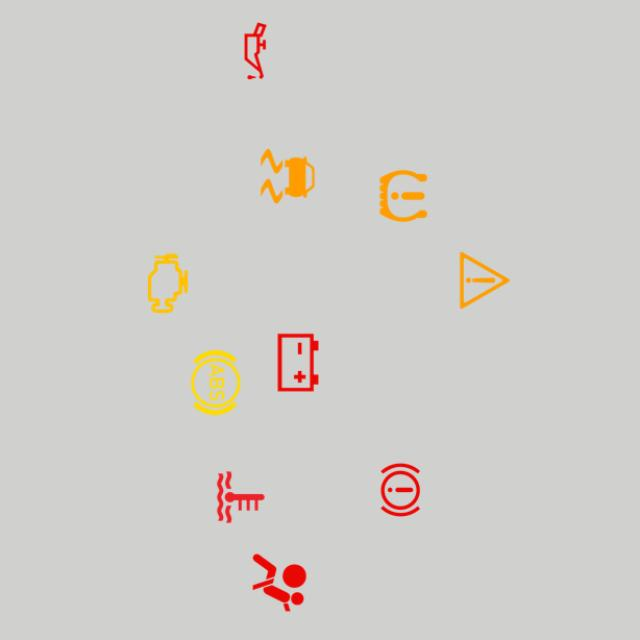Anti Lock Braking System: (180, 347, 252, 418)
Braking System Issue: (365, 454, 436, 526)
Charging System Issue: (262, 327, 334, 398)
Check Engine: (132, 248, 204, 319)
Electronic Stability Problem -ESP-: (252, 140, 323, 212)
Engine Overheating Warning Light: (206, 462, 276, 532)
Low Engine Oil Warning Light: (220, 15, 291, 86)
Low Tire Pressure Warning Light: (368, 160, 439, 232)
Master warning light: (449, 245, 520, 316)
SRS-Airbag: (244, 547, 315, 618)
